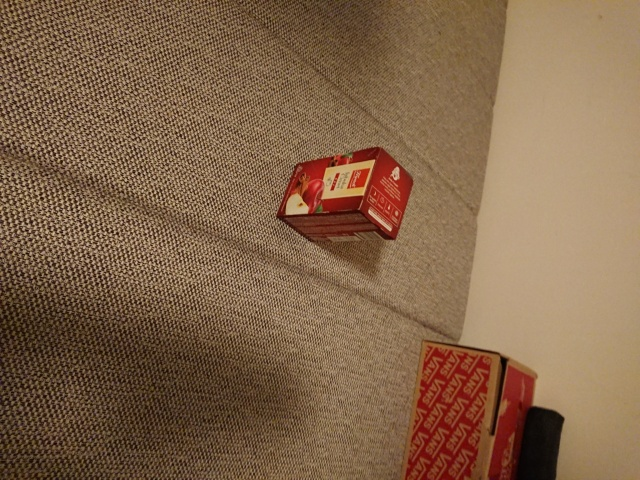Franck Apple Cinnamon Tea 60g: (272, 144, 416, 246)
